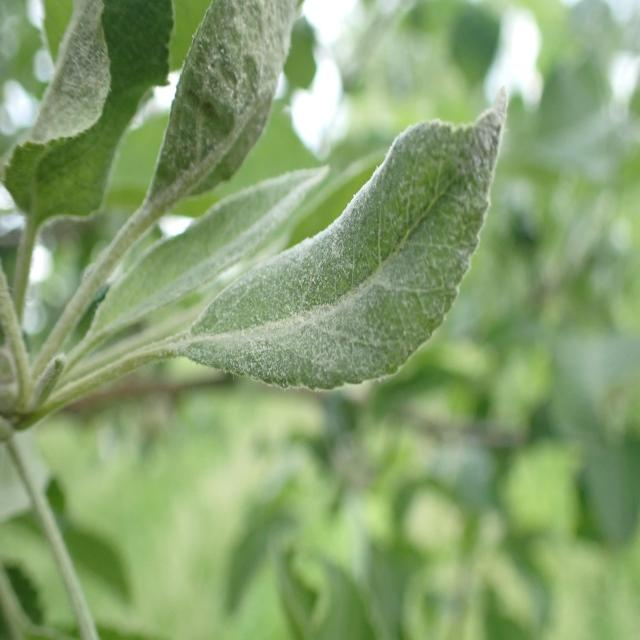Powdery_mildew: (184, 109, 507, 432), (18, 0, 172, 312), (76, 164, 330, 346), (146, 3, 308, 234)
